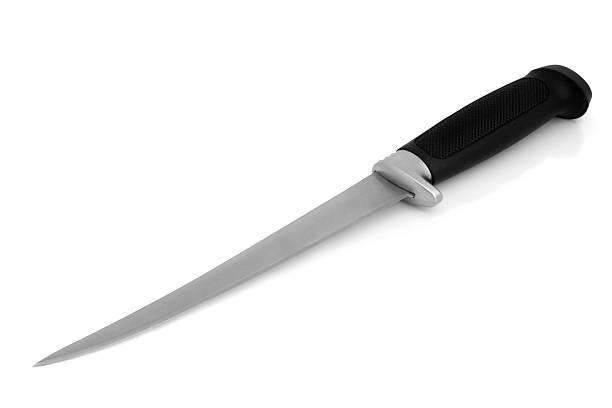k1: (20, 129, 468, 374)
